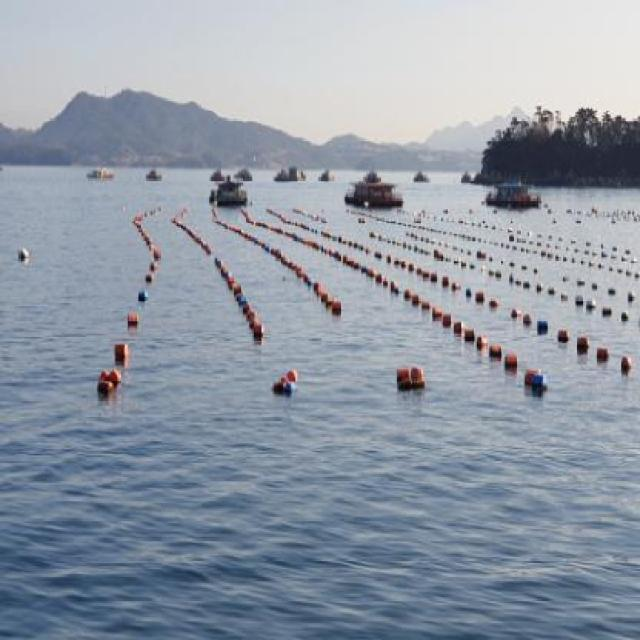a: (395, 353, 430, 397), (267, 359, 304, 396), (94, 365, 130, 399), (524, 364, 544, 410), (113, 337, 144, 366), (501, 347, 521, 381), (534, 312, 551, 346), (576, 331, 593, 365), (617, 349, 634, 383), (123, 312, 144, 335), (557, 327, 573, 356), (489, 341, 505, 369), (135, 285, 152, 309), (597, 343, 614, 367), (477, 331, 491, 360), (452, 317, 467, 343), (252, 320, 268, 344), (332, 294, 344, 322), (430, 303, 446, 324), (511, 303, 523, 329), (465, 326, 479, 348), (523, 312, 536, 329), (490, 299, 501, 315), (478, 289, 486, 308)
